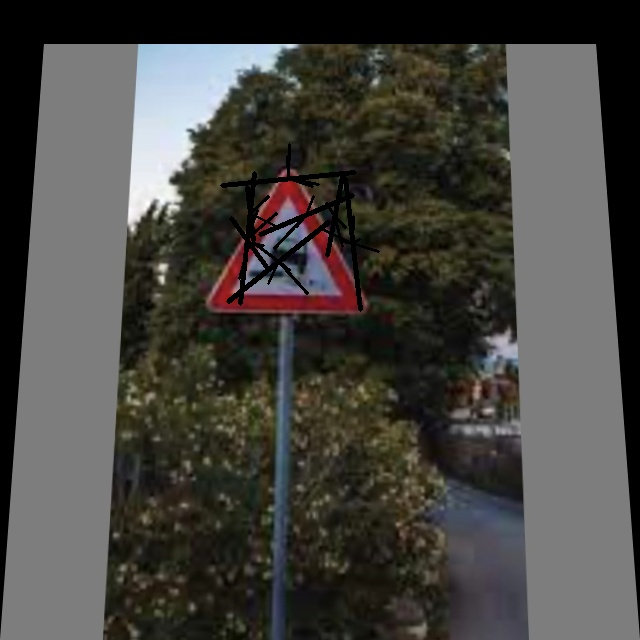Loose_Gravel: (218, 172, 362, 313)
